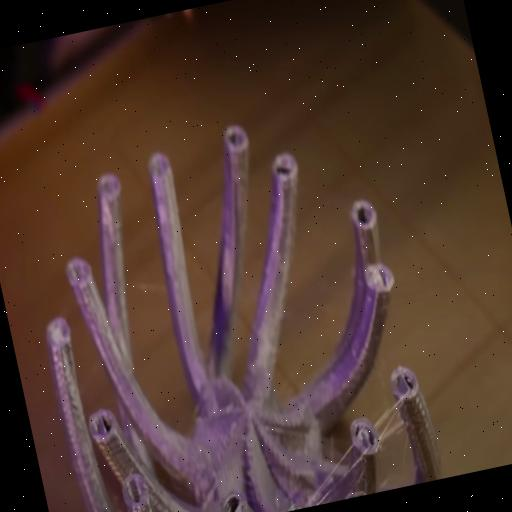stringing: (288, 389, 426, 506)
